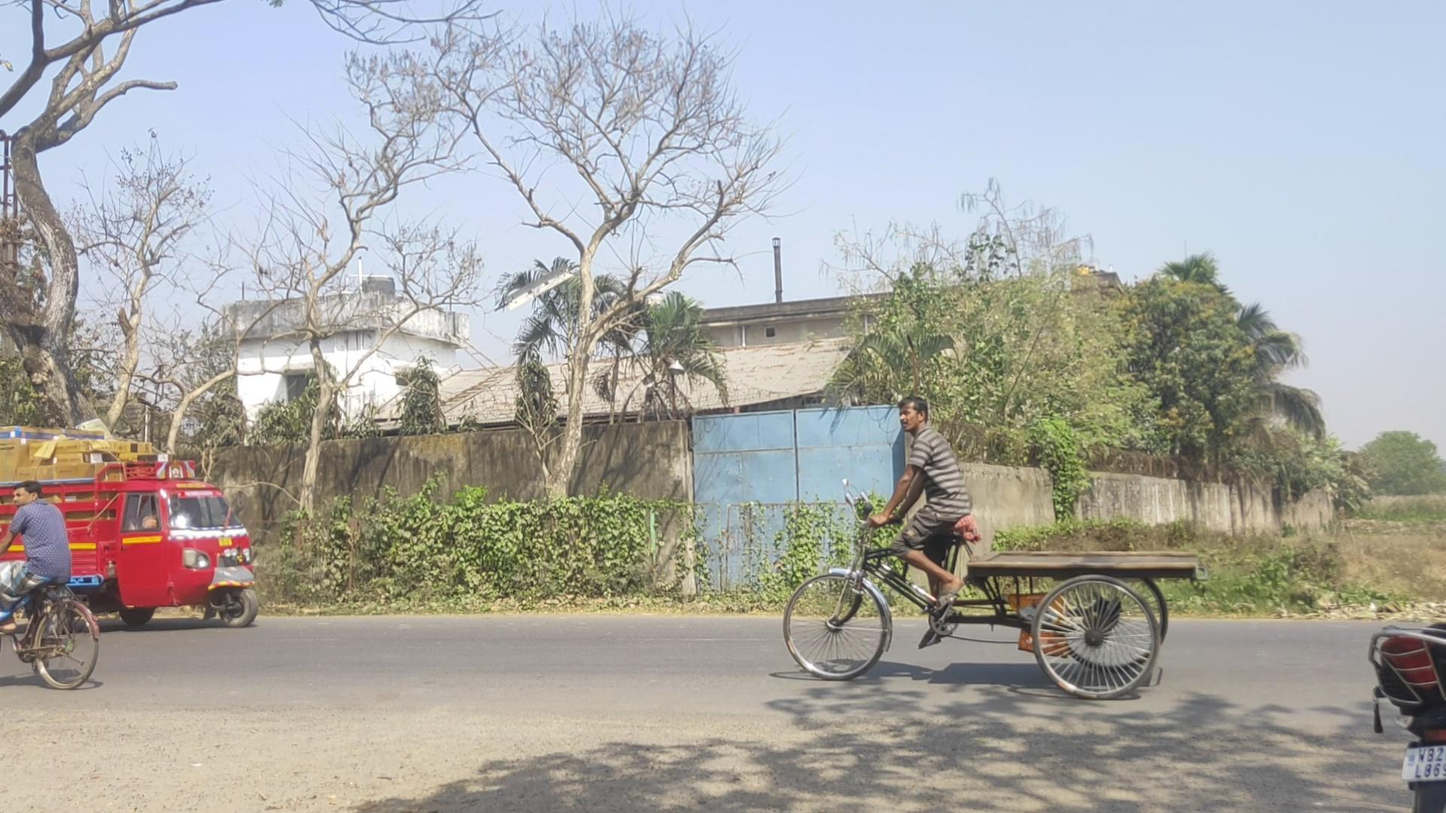bike: (1, 482, 101, 690)
van: (2, 423, 259, 629)
